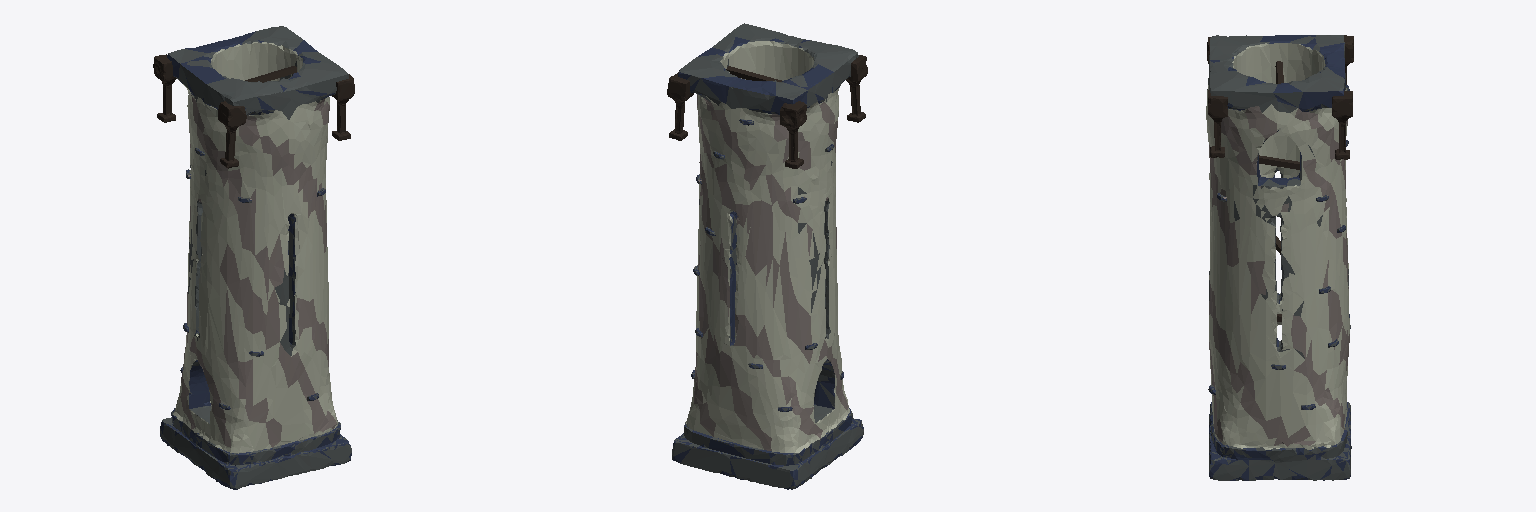
Rendered from RoundTowerSection.obj.
The picture shows the model from 3 angles: view 1: azimuth 30°, elevation 25°; view 2: azimuth 150°, elevation 25°; view 3: azimuth 270°, elevation 25°; orthographic projection.
Visible parts, largest first — view 1: Cylinder.000_Cylinder.002; view 2: Cylinder.000_Cylinder.002; view 3: Cylinder.000_Cylinder.002.
Boxes of the visible parts, x1=… form: Cylinder.000_Cylinder.002: x1=153, y1=26, x2=354, y2=489; Cylinder.000_Cylinder.002: x1=667, y1=23, x2=867, y2=489; Cylinder.000_Cylinder.002: x1=1206, y1=35, x2=1353, y2=480.
Size of the model in its own units: 2.19 by 6.21 by 2.12.